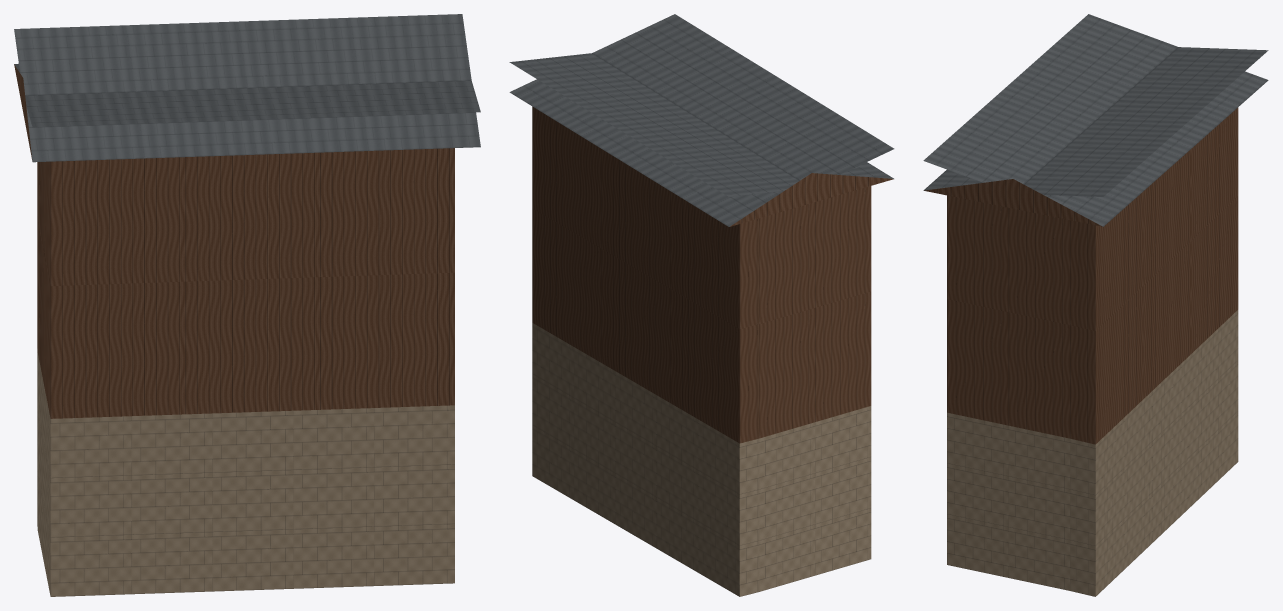
The model's file is bld_c18_15_522.gltf.
The picture shows the model from 3 angles, left to right: view 1: azimuth 30°, elevation 25°; view 2: azimuth 150°, elevation 25°; view 3: azimuth 270°, elevation 25°; orthographic projection. The views are drawn at different scales.
Parts seen in each view (by area): view 1: bld_c18_15_522; view 2: bld_c18_15_522; view 3: bld_c18_15_522.
Boxes of the visible parts, <box> form: bld_c18_15_522: <box>14,14,480,596</box>; bld_c18_15_522: <box>509,14,894,596</box>; bld_c18_15_522: <box>923,14,1268,596</box>.
Bounding box in the file's own units: 13.14 × 13.7 × 10.49.
Materials: 4 (4 with a texture image).
